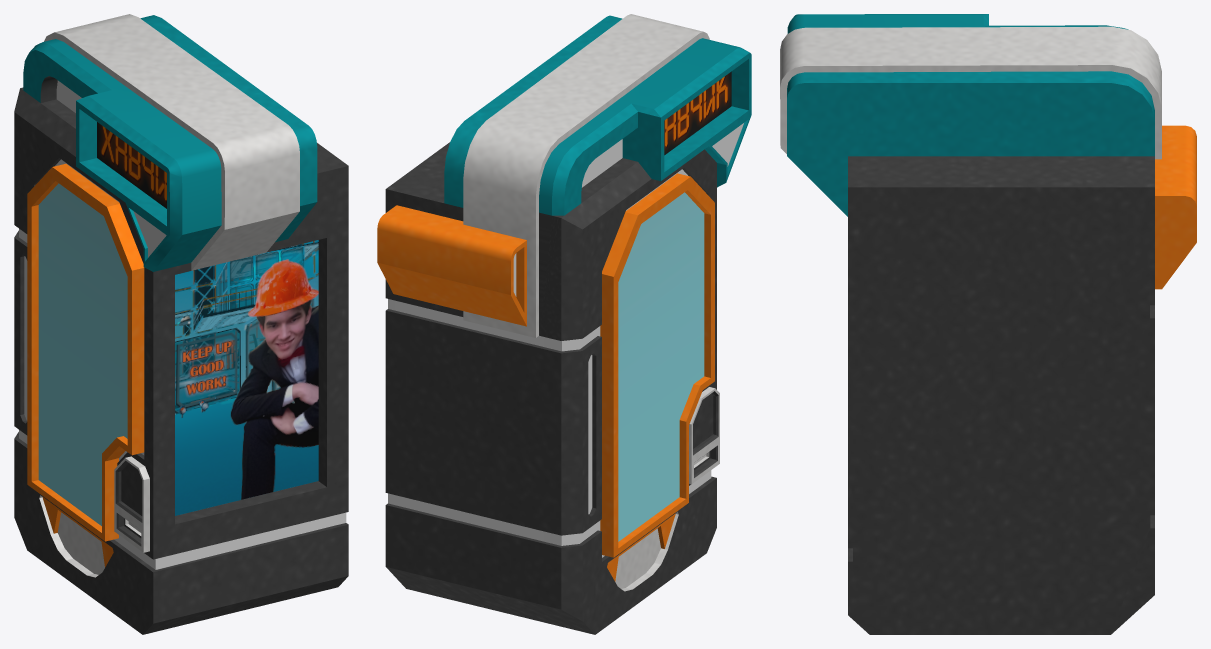
The model's file is VendingMachine_LOD0.fbx.
The picture shows the model from 3 angles, left to right: view 1: azimuth 30°, elevation 25°; view 2: azimuth 150°, elevation 25°; view 3: azimuth 270°, elevation 25°; orthographic projection. The views are drawn at different scales.
Parts seen in each view (by area): view 1: VendingMachine_1_LOD0; view 2: VendingMachine_1_LOD0; view 3: VendingMachine_1_LOD0.
Boxes of the visible parts, x1,y1,x2,y2 form: VendingMachine_1_LOD0: [14, 14, 348, 634]; VendingMachine_1_LOD0: [377, 14, 751, 634]; VendingMachine_1_LOD0: [780, 14, 1196, 634].
Bounding box in the file's own units: 97.33 × 229 × 164.
